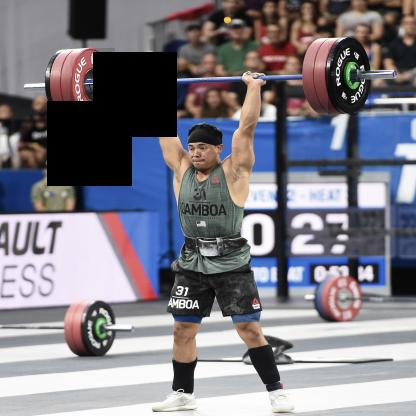barbell: (329, 37, 372, 116), (71, 49, 116, 124)
